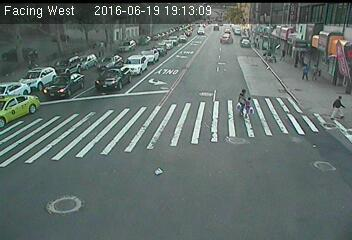neg: (150, 33, 178, 70), (30, 85, 53, 116), (123, 29, 144, 58), (253, 35, 268, 56), (111, 51, 125, 70), (277, 71, 291, 89), (297, 29, 311, 46), (305, 98, 317, 114), (291, 87, 303, 103), (331, 39, 343, 54), (240, 27, 250, 41), (180, 24, 190, 37)
pos: (229, 85, 255, 120), (326, 91, 351, 124), (238, 94, 258, 122), (295, 60, 314, 85), (307, 61, 325, 85), (276, 44, 290, 63)
